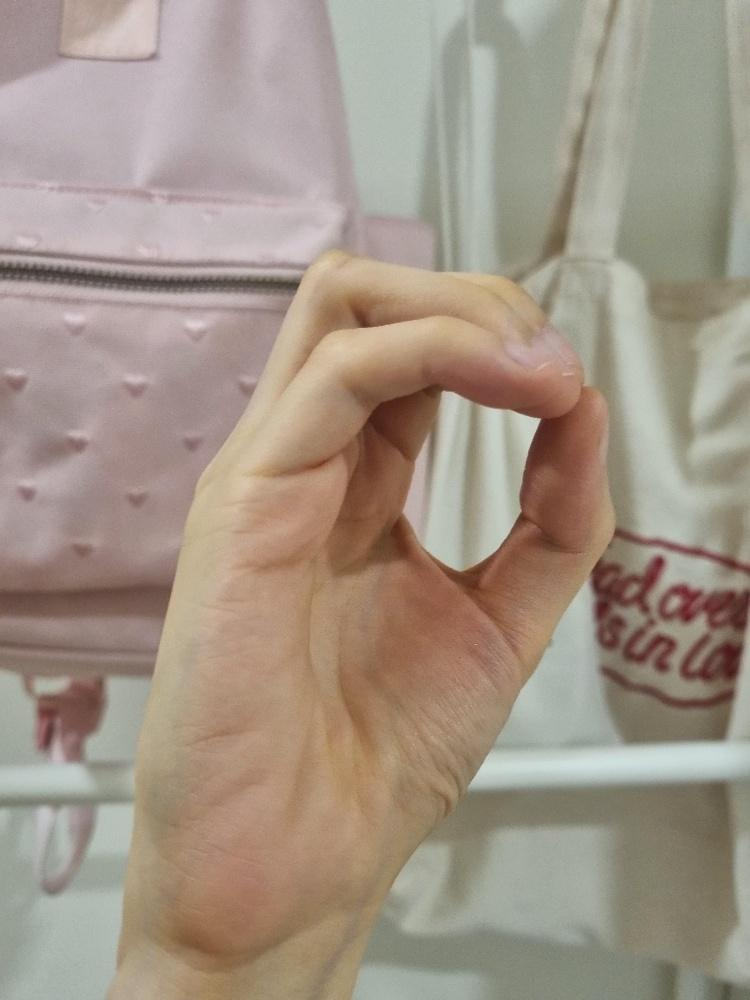o: (136, 244, 616, 949)
